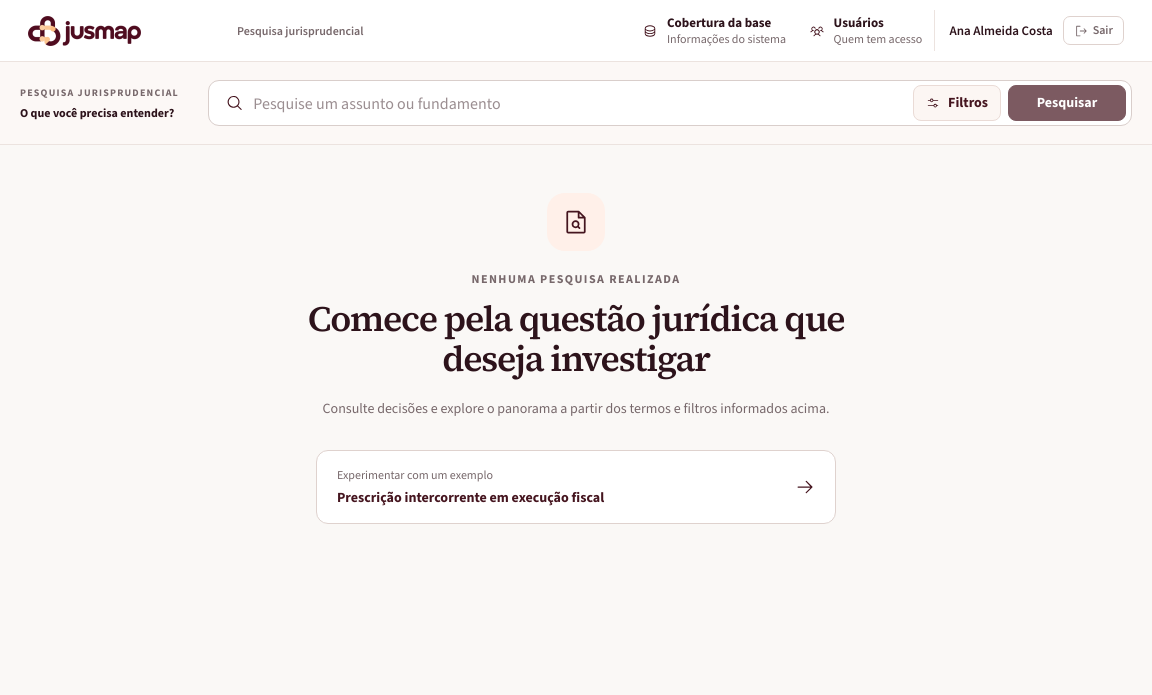
Test: the coverage beside a search › is asked with nothing from a filtered search
Type "prescrição intercorrente em execução fiscal" into the search field named "Pesquisar decisões".
click(578, 103); type("prescrição intercorrente em execução fiscal")  # box [253,85,903,121]
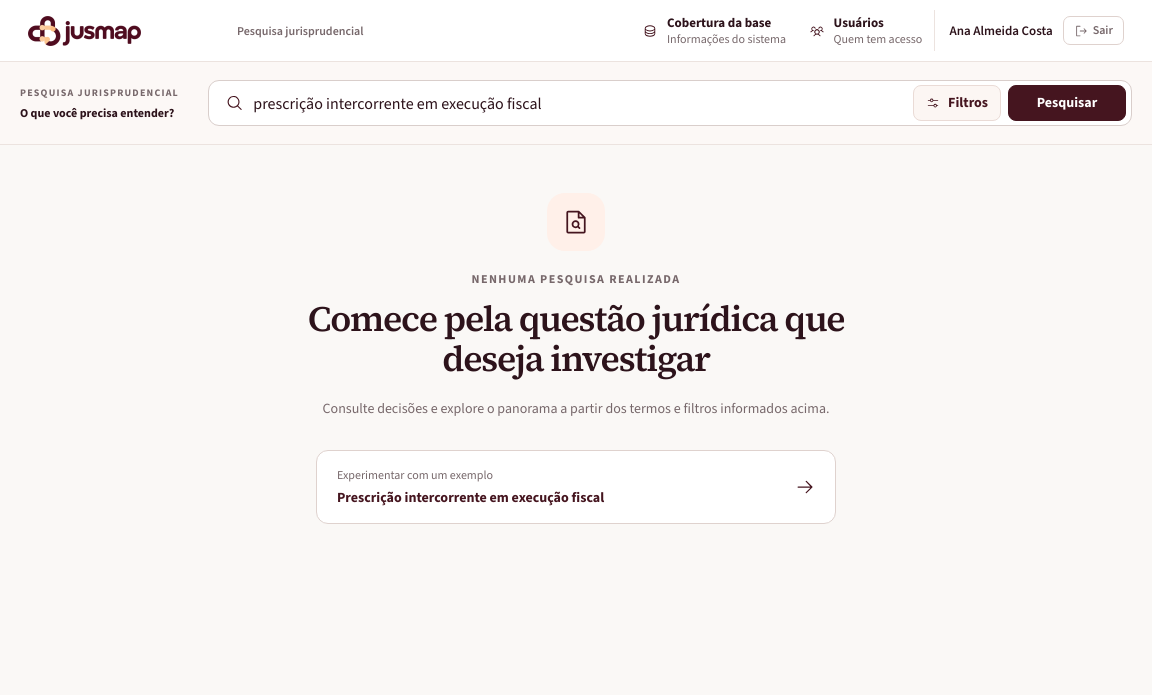
Replace the text in the search field named "Pesquisar decisões" with "dano moral" at (578, 103), box [253,85,903,121]
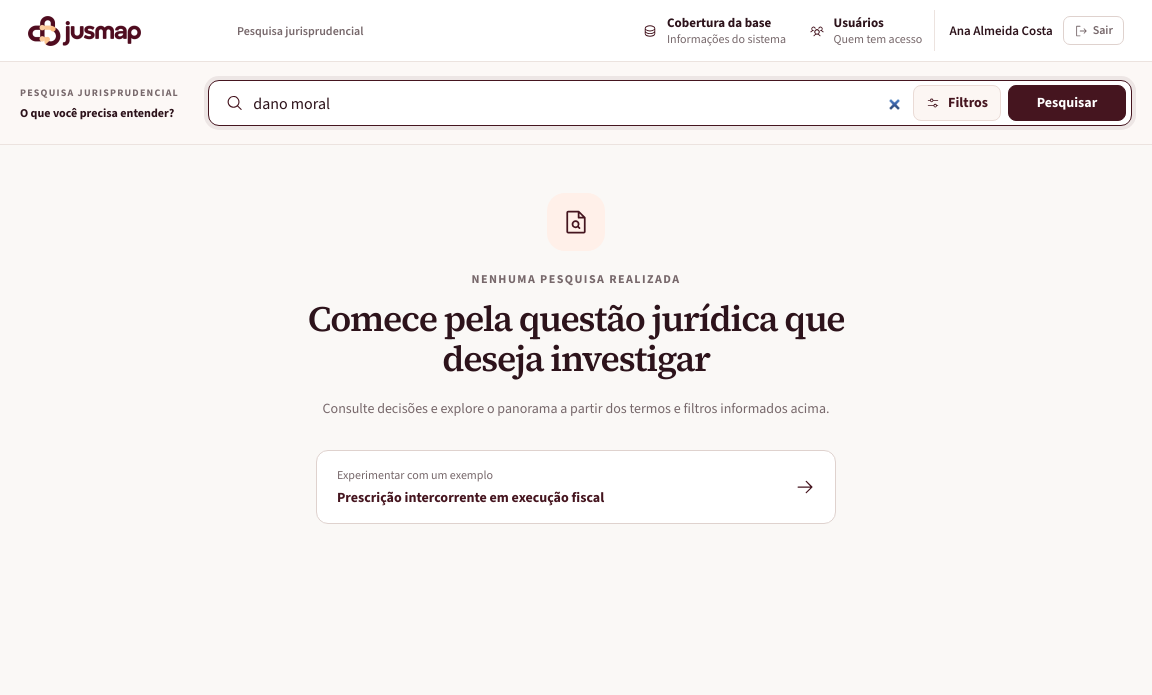
Click the button "Filtros".
click(957, 103)  # box [913,85,1001,121]
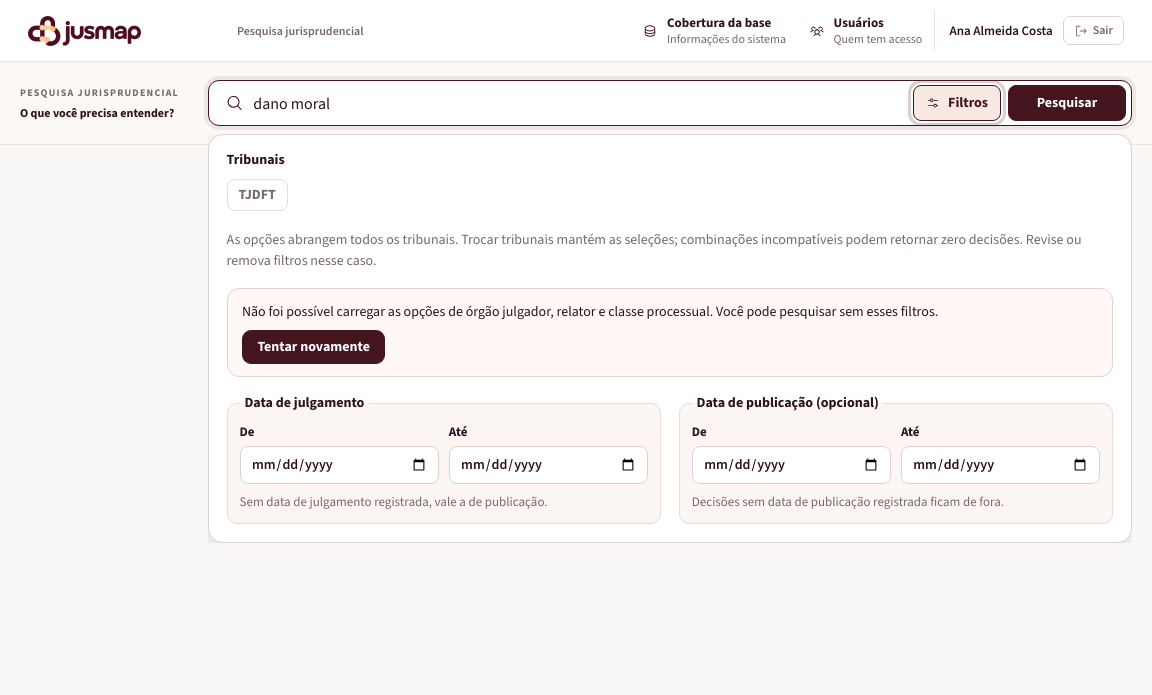
Click the checkbox labelled "TJDFT".
click(257, 195)  # box [227,179,288,211]
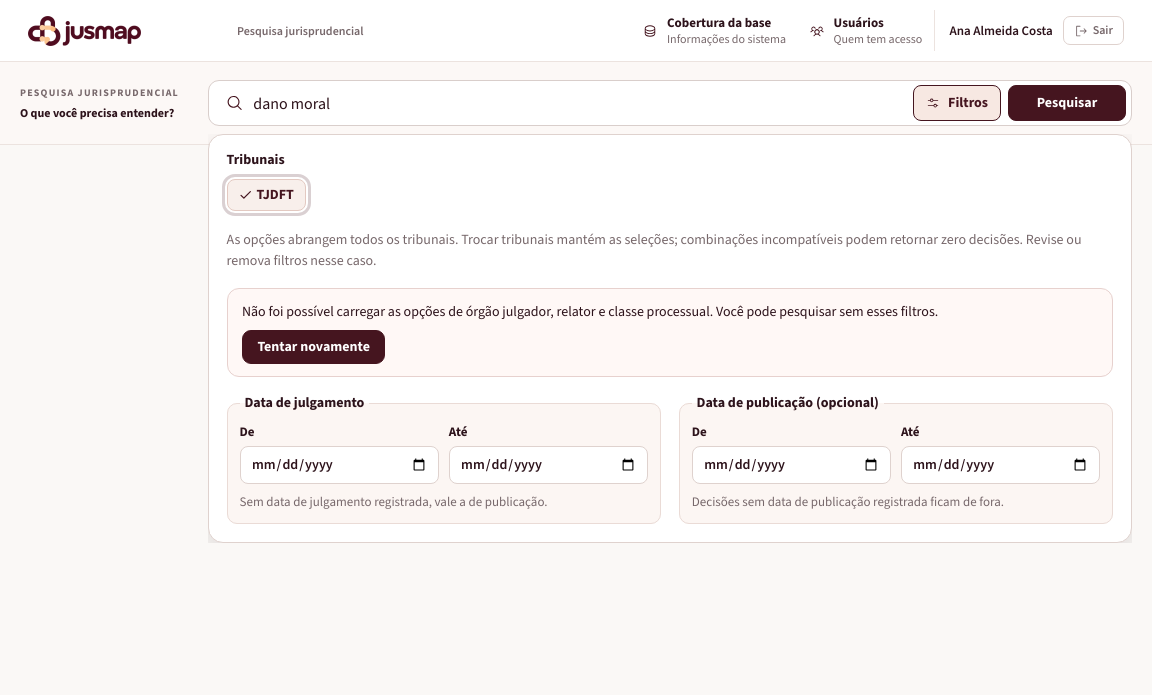
Type "2026-01-01" into the 1st date field labelled "De".
click(339, 465); type("2026-01-01")  # box [240,446,439,484]
Click the button "Pesquisar".
click(1067, 103)  # box [1008,85,1126,121]
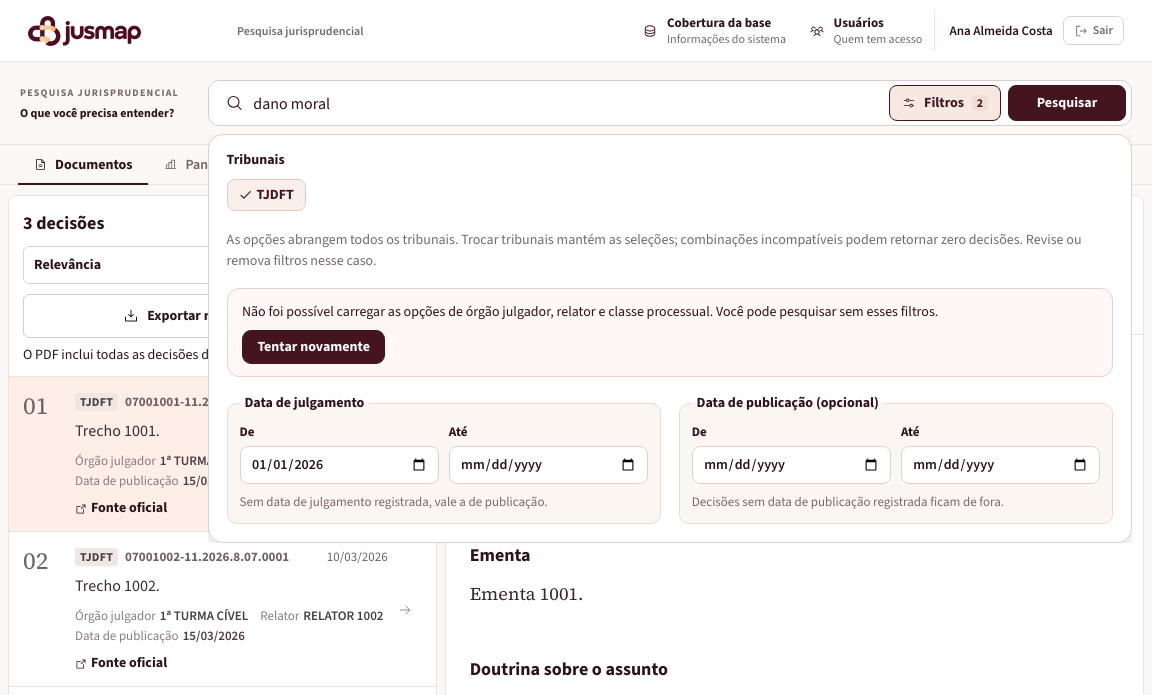
Expected: the text "TJDFT" is shown, [257,188,294,202]
Click the link "Cobertura da base Informações do sistema".
click(715, 31)  # box [631,10,798,51]
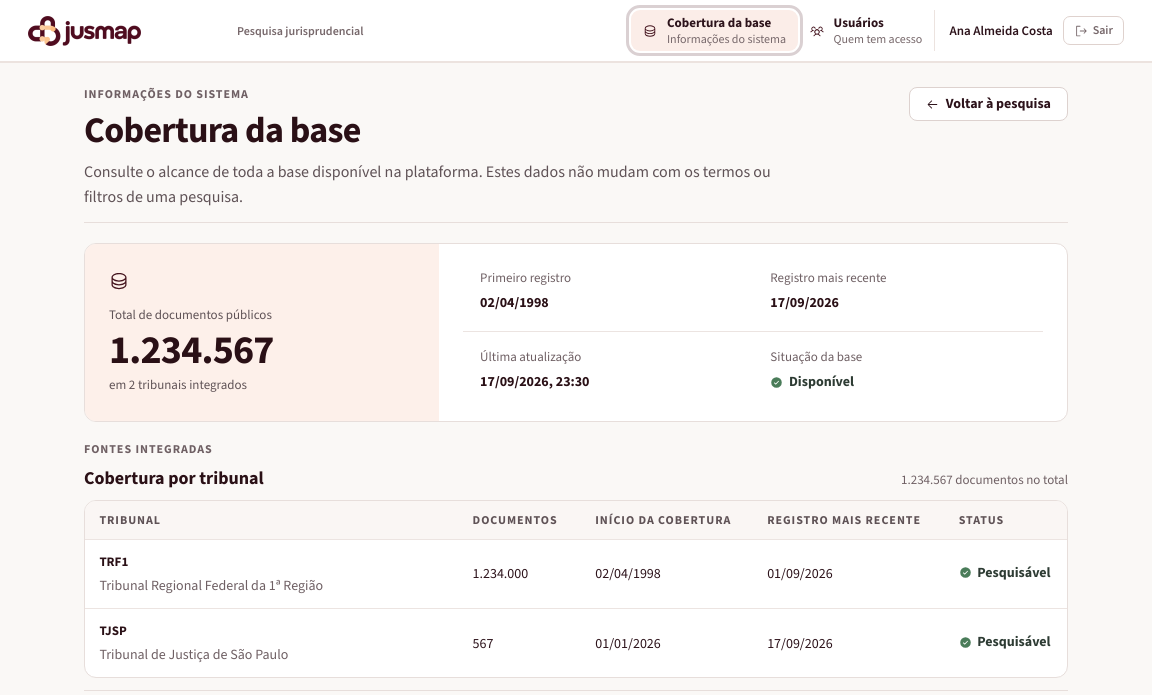
Expected: the text "1.234.567" is shown, [109,324,274,376]
